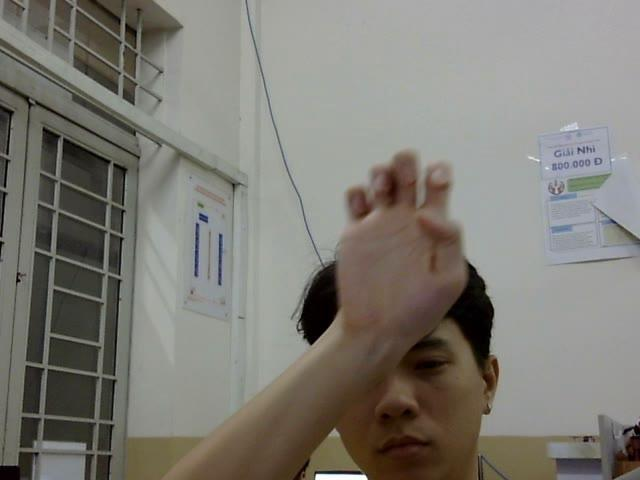E: (333, 146, 467, 321)
